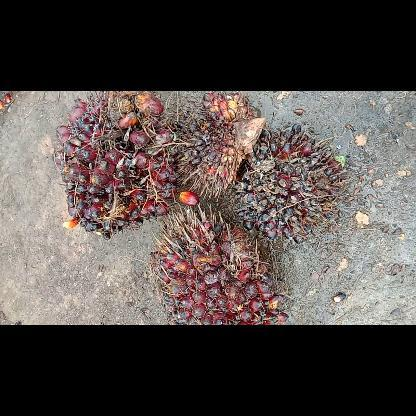Kurang masak: (55, 90, 177, 240)
TBS abnormal: (234, 125, 346, 243), (175, 91, 265, 199)
TBS masak: (151, 204, 287, 324)
